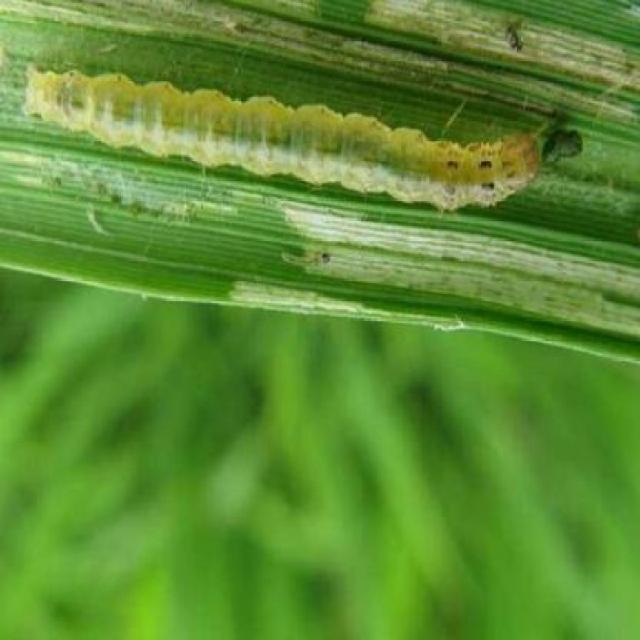leaf-folder: (10, 51, 582, 255)
